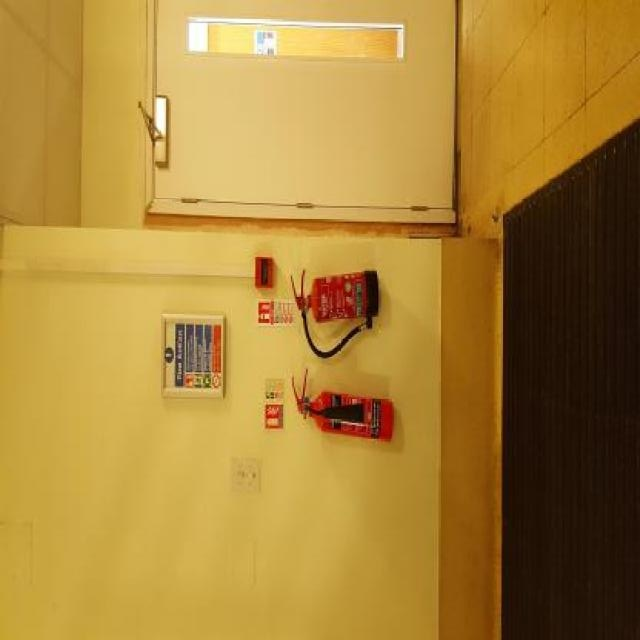fire extinguisher: (289, 270, 374, 362), (293, 371, 393, 443)
